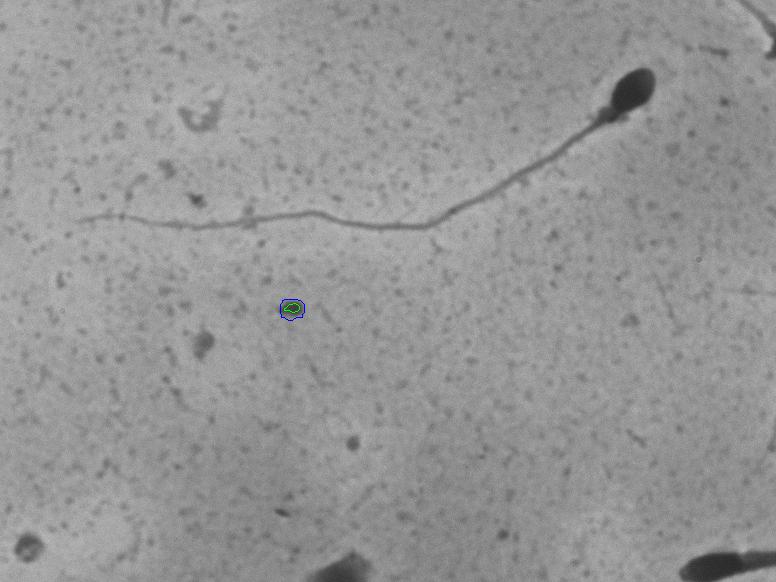Normal: (63, 48, 671, 248)
